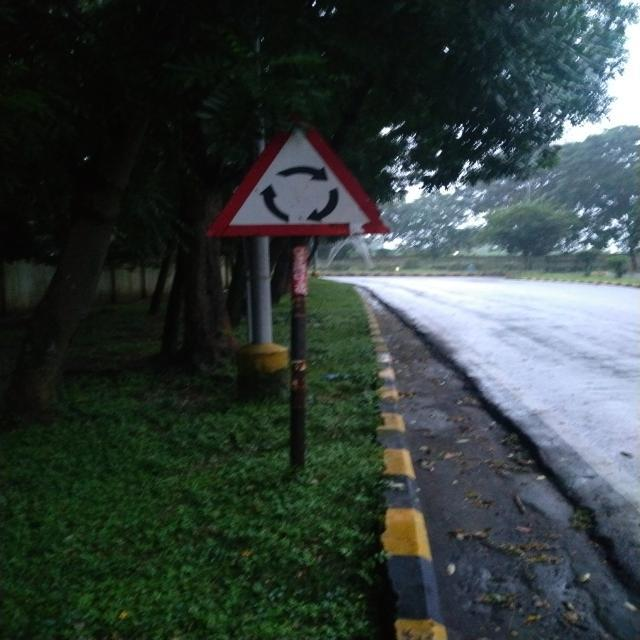roundabout: (205, 110, 396, 236)
